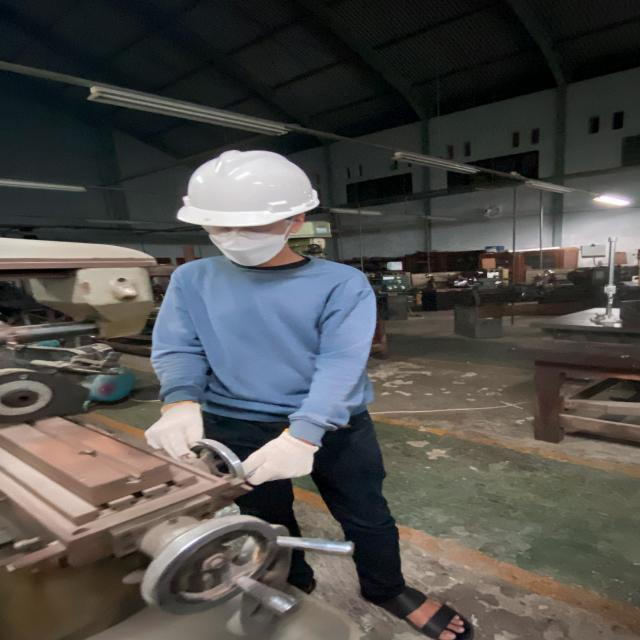face_mask: (197, 220, 294, 267)
glasses: (198, 220, 283, 240)
hand_glove: (228, 427, 328, 488), (134, 400, 217, 461)
head_helmet: (173, 147, 326, 228)
person: (141, 147, 472, 640)
